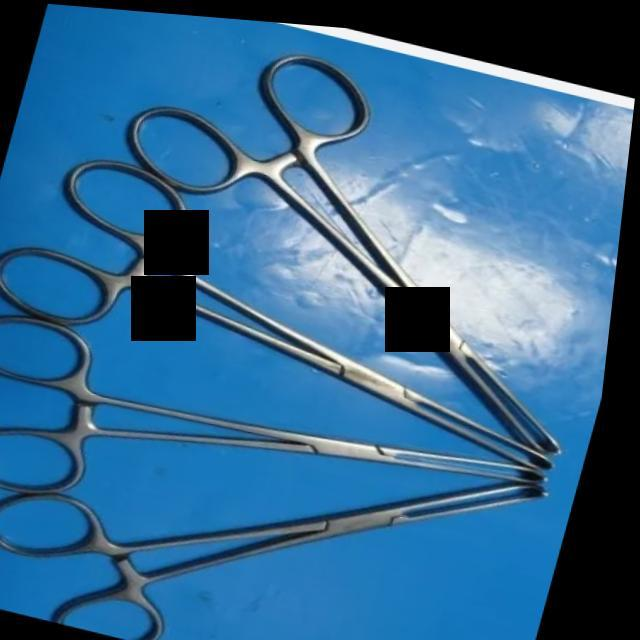Allis Forceps: (66, 10, 640, 457), (0, 132, 622, 470), (0, 301, 580, 607), (0, 353, 594, 640)
